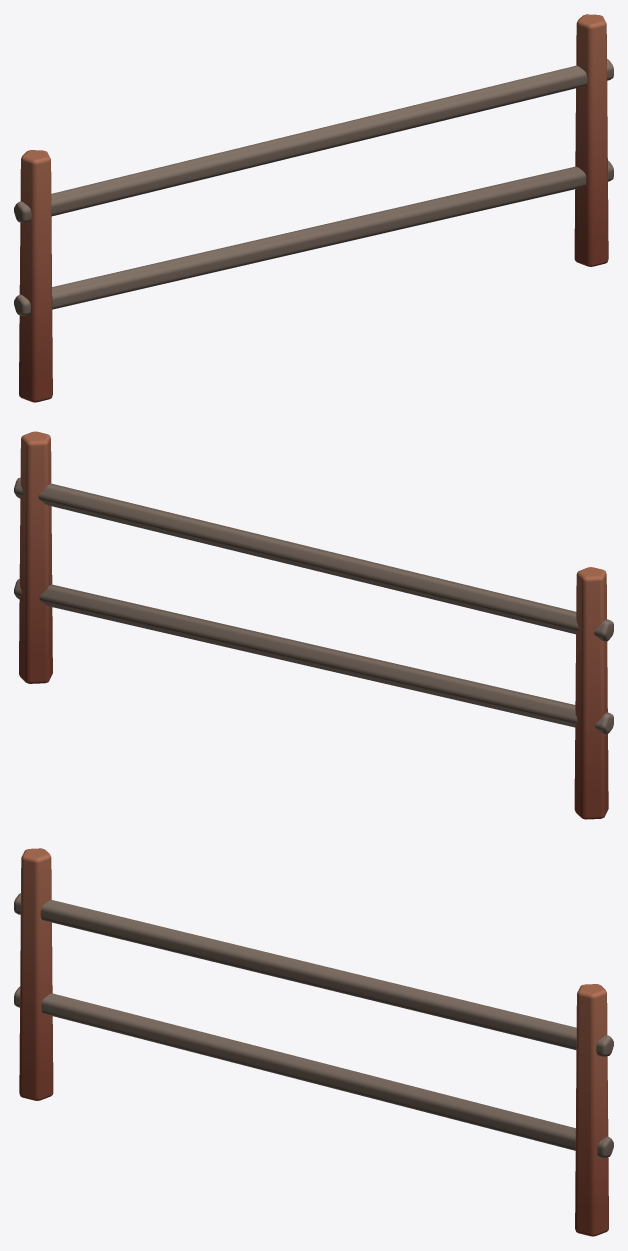
Rendered from fence_wood.glb.
3 renders of one model, top to bottom at view 1: azimuth 30°, elevation 25°; view 2: azimuth 150°, elevation 25°; view 3: azimuth 330°, elevation 25°, orthographic.
Visible parts, largest first — view 1: fence_wood; view 2: fence_wood; view 3: fence_wood.
Part boxes in pixels (<box>): fence_wood: <box>14,14,613,402</box>; fence_wood: <box>14,431,613,819</box>; fence_wood: <box>14,848,613,1236</box>.
Bounding box in the file's own units: 3.2 × 1.25 × 0.1559.
Materials: 1 (1 with a texture image).
